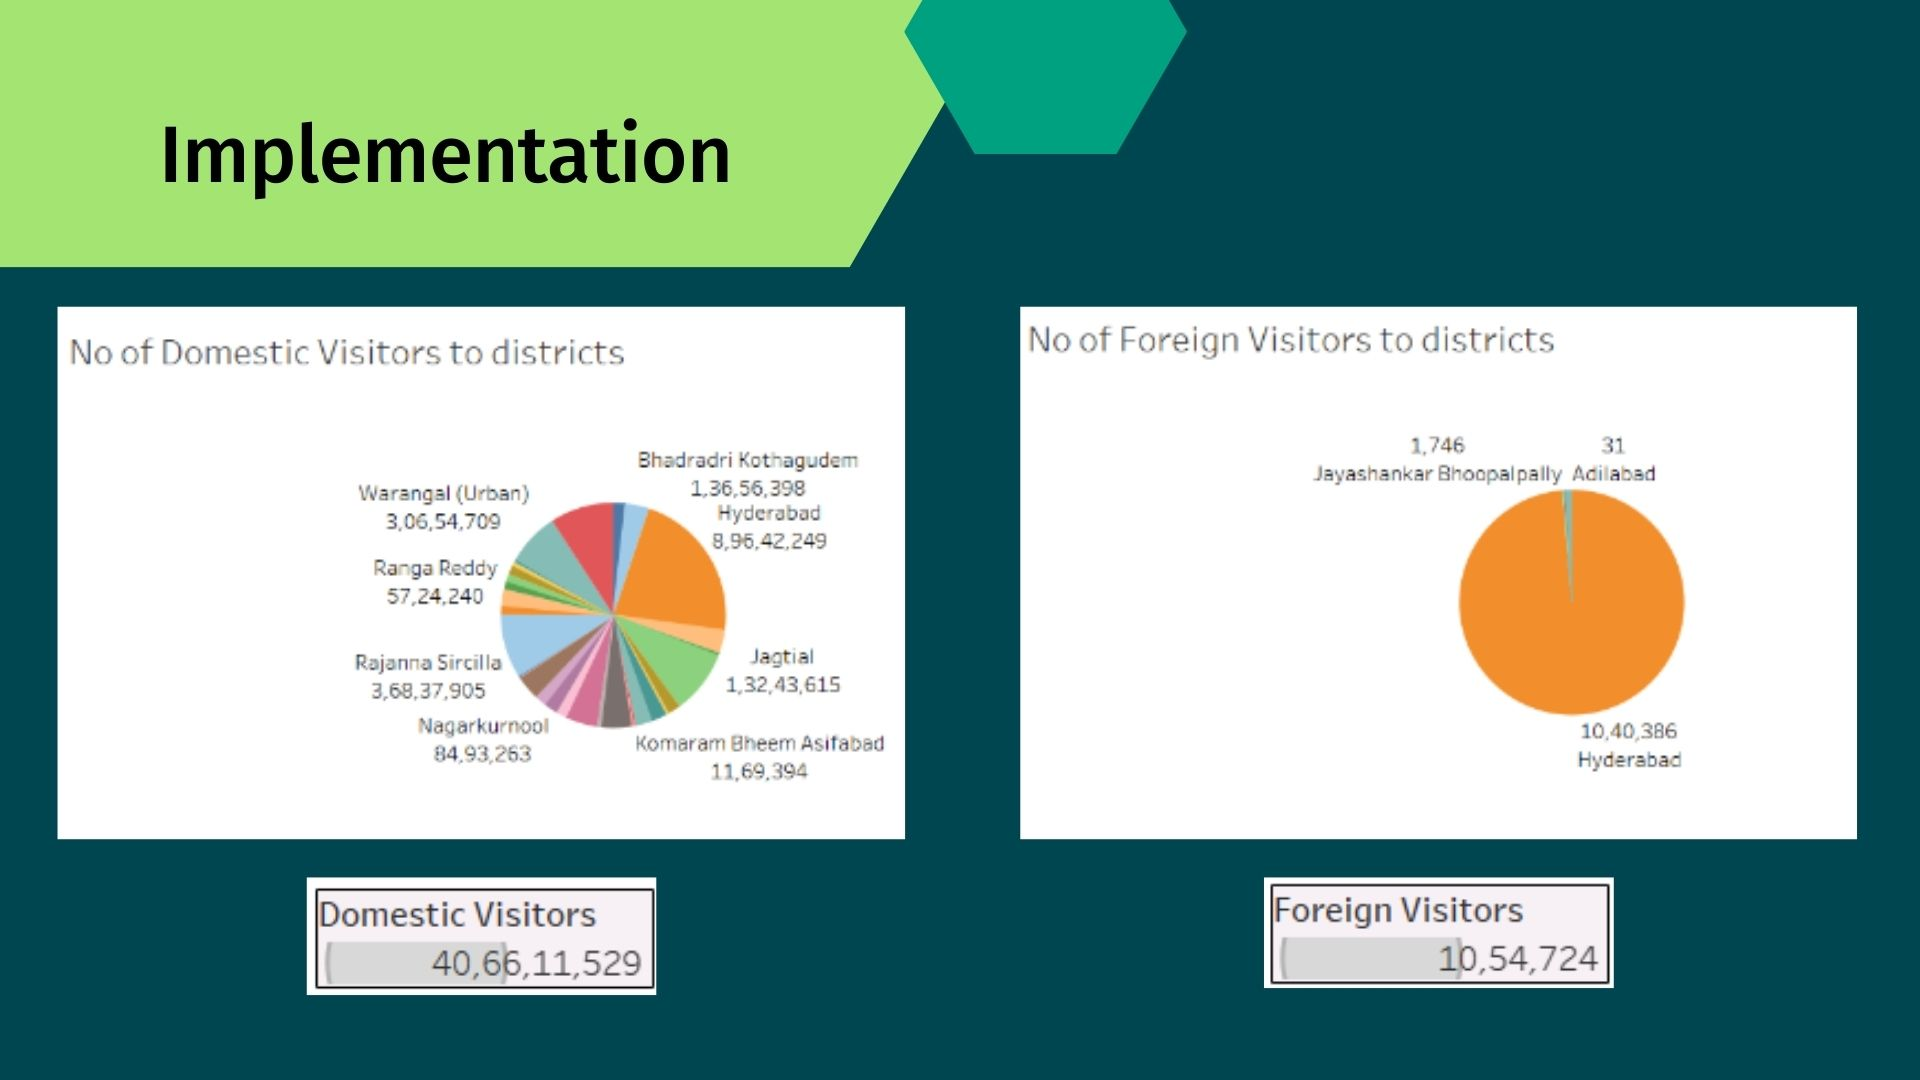

The page's visual inventory and layout, read from the dashboard file:
{"tool":"tableau","page":{"name":"Dashboard 1","canvas":[1000,800],"ordinal":0},"visuals":[{"type":"worksheet","title":"No of Domestic Visitors to districts","mark":"Pie","box":[8,8,824,392]},{"type":"legend","title":"No of Domestic Visitors to districts","param":"[federated.1yk0xty0bbpp0g15l3e5t04gqoq5].[none:district:nk]","box":[832,8,160,339]},{"type":"legend","title":"No of Domestic Visitors to districts","param":"[federated.1yk0xty0bbpp0g15l3e5t04gqoq5].[sum:visitors:qk]","box":[832,347,160,53]},{"type":"worksheet","title":"No of Foreign Visitors to districts","mark":"Pie","box":[8,400,824,392]},{"type":"legend","title":"No of Foreign Visitors to districts","param":"[federated.1yk0xty0bbpp0g15l3e5t04gqoq5].[none:district (foreign_data.csv):nk]","box":[832,400,160,339]},{"type":"legend","title":"No of Foreign Visitors to districts","param":"[federated.1yk0xty0bbpp0g15l3e5t04gqoq5].[sum:visitors (foreign_data.csv):qk]","box":[832,739,160,53]}]}

Visuals, with their boxes on the page's 1000x800 design canvas (x1, y1, x2, y2). These are canvas units, not pixel positions in the 1920x1080 screenshot, which may show the page scaled, cropped or inside an application window:
"No of Domestic Visitors to districts" worksheet (Pie marks): BBox(8, 8, 832, 400)
"No of Domestic Visitors to districts" legend: BBox(832, 8, 992, 347)
"No of Domestic Visitors to districts" legend: BBox(832, 347, 992, 400)
"No of Foreign Visitors to districts" worksheet (Pie marks): BBox(8, 400, 832, 792)
"No of Foreign Visitors to districts" legend: BBox(832, 400, 992, 739)
"No of Foreign Visitors to districts" legend: BBox(832, 739, 992, 792)
